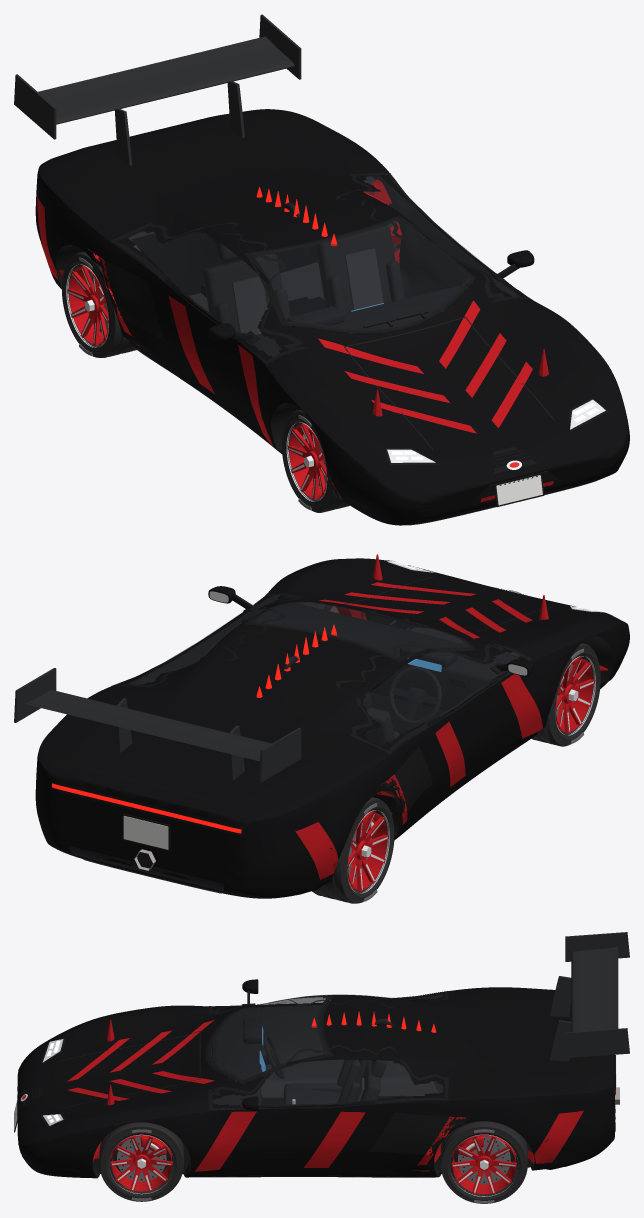
File: oni.glb
3 views of the same model, one above another, from view 1: azimuth 30°, elevation 25°; view 2: azimuth 150°, elevation 25°; view 3: azimuth 270°, elevation 25° (orthographic). The views are drawn at different scales.
Parts seen in each view (by area): view 1: Body, Wheel_RR, Wheel_FR; view 2: Body, Wheel_RR, Wheel_FR; view 3: Body, Wheel_RL, Wheel_FL.
Boxes of the visible parts, x1,y1,x2,y2 form: Body: (14,14,629,525); Wheel_RR: (62,251,136,357); Wheel_FR: (281,409,349,512); Body: (14,554,629,898); Wheel_RR: (312,797,394,903); Wheel_FR: (531,643,600,746); Body: (14,932,629,1178); Wheel_RL: (440,1121,527,1203); Wheel_FL: (99,1122,183,1201).
Bounding box in the file's own units: 2.39 × 1.5 × 4.95.
